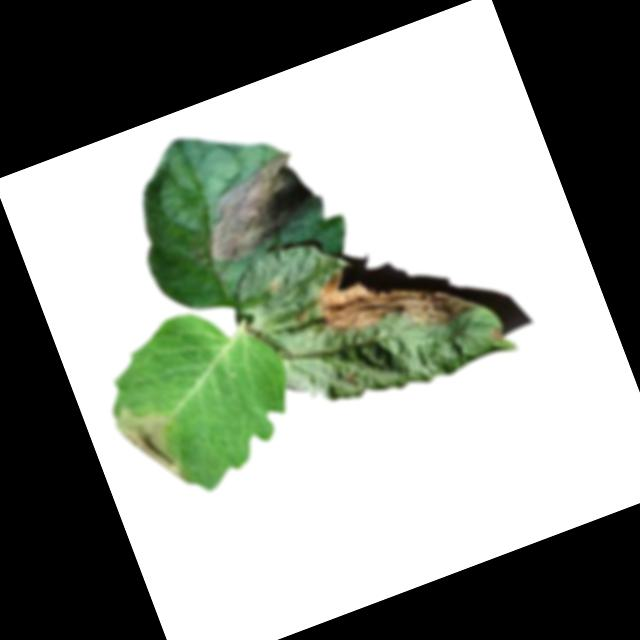Late_blight: (305, 228, 476, 366), (180, 146, 331, 272), (106, 392, 192, 494), (485, 323, 503, 341)
